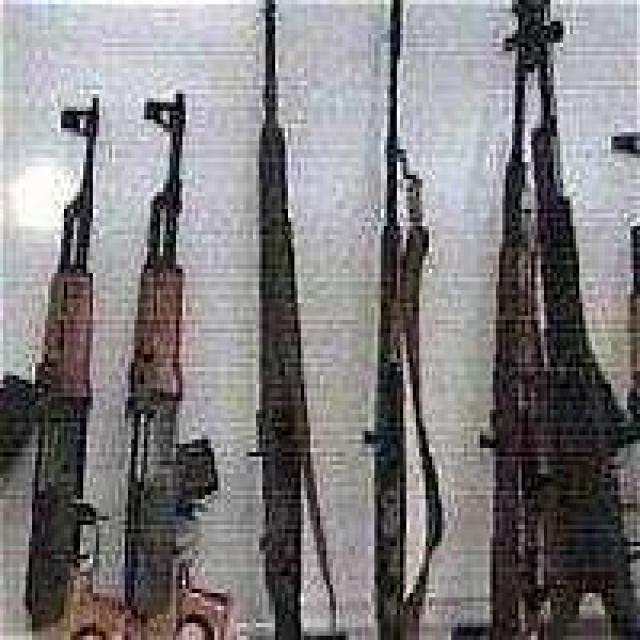AntRifle: (247, 1, 317, 638), (360, 0, 427, 627)
Rifle: (122, 81, 227, 640)
